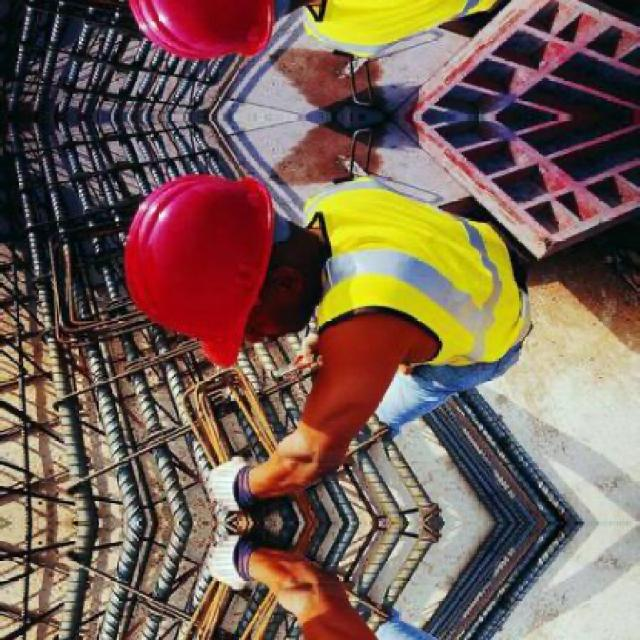helmet: (112, 165, 320, 366), (112, 0, 322, 68)
